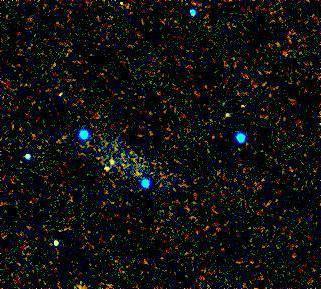star: (93, 148, 123, 178)
